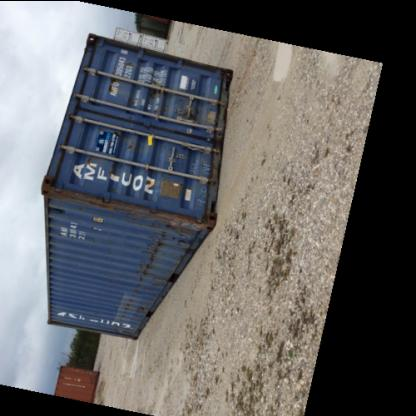Damage: (52, 183, 116, 225), (146, 210, 200, 247), (132, 244, 160, 288), (184, 155, 208, 205), (107, 127, 136, 156), (115, 294, 147, 320), (172, 100, 196, 121), (140, 73, 154, 97), (104, 74, 116, 96)
